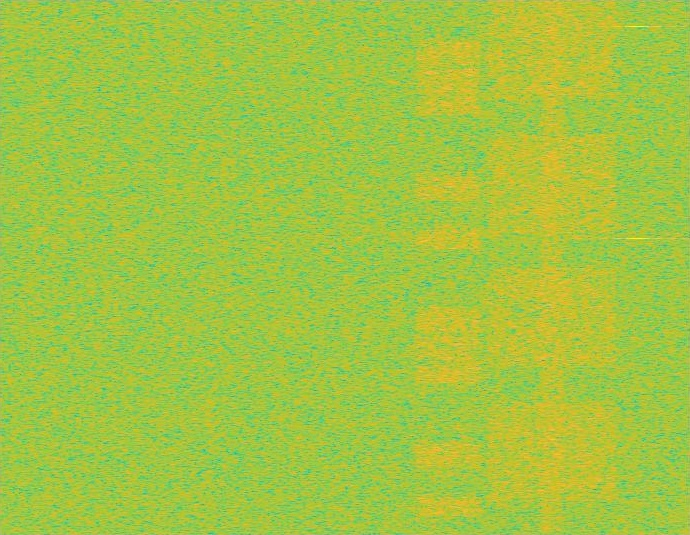5G: (483, 0, 621, 534)
DSSS: (536, 0, 568, 534)
LTE: (414, 0, 483, 534)
Radar: (631, 0, 645, 534)
